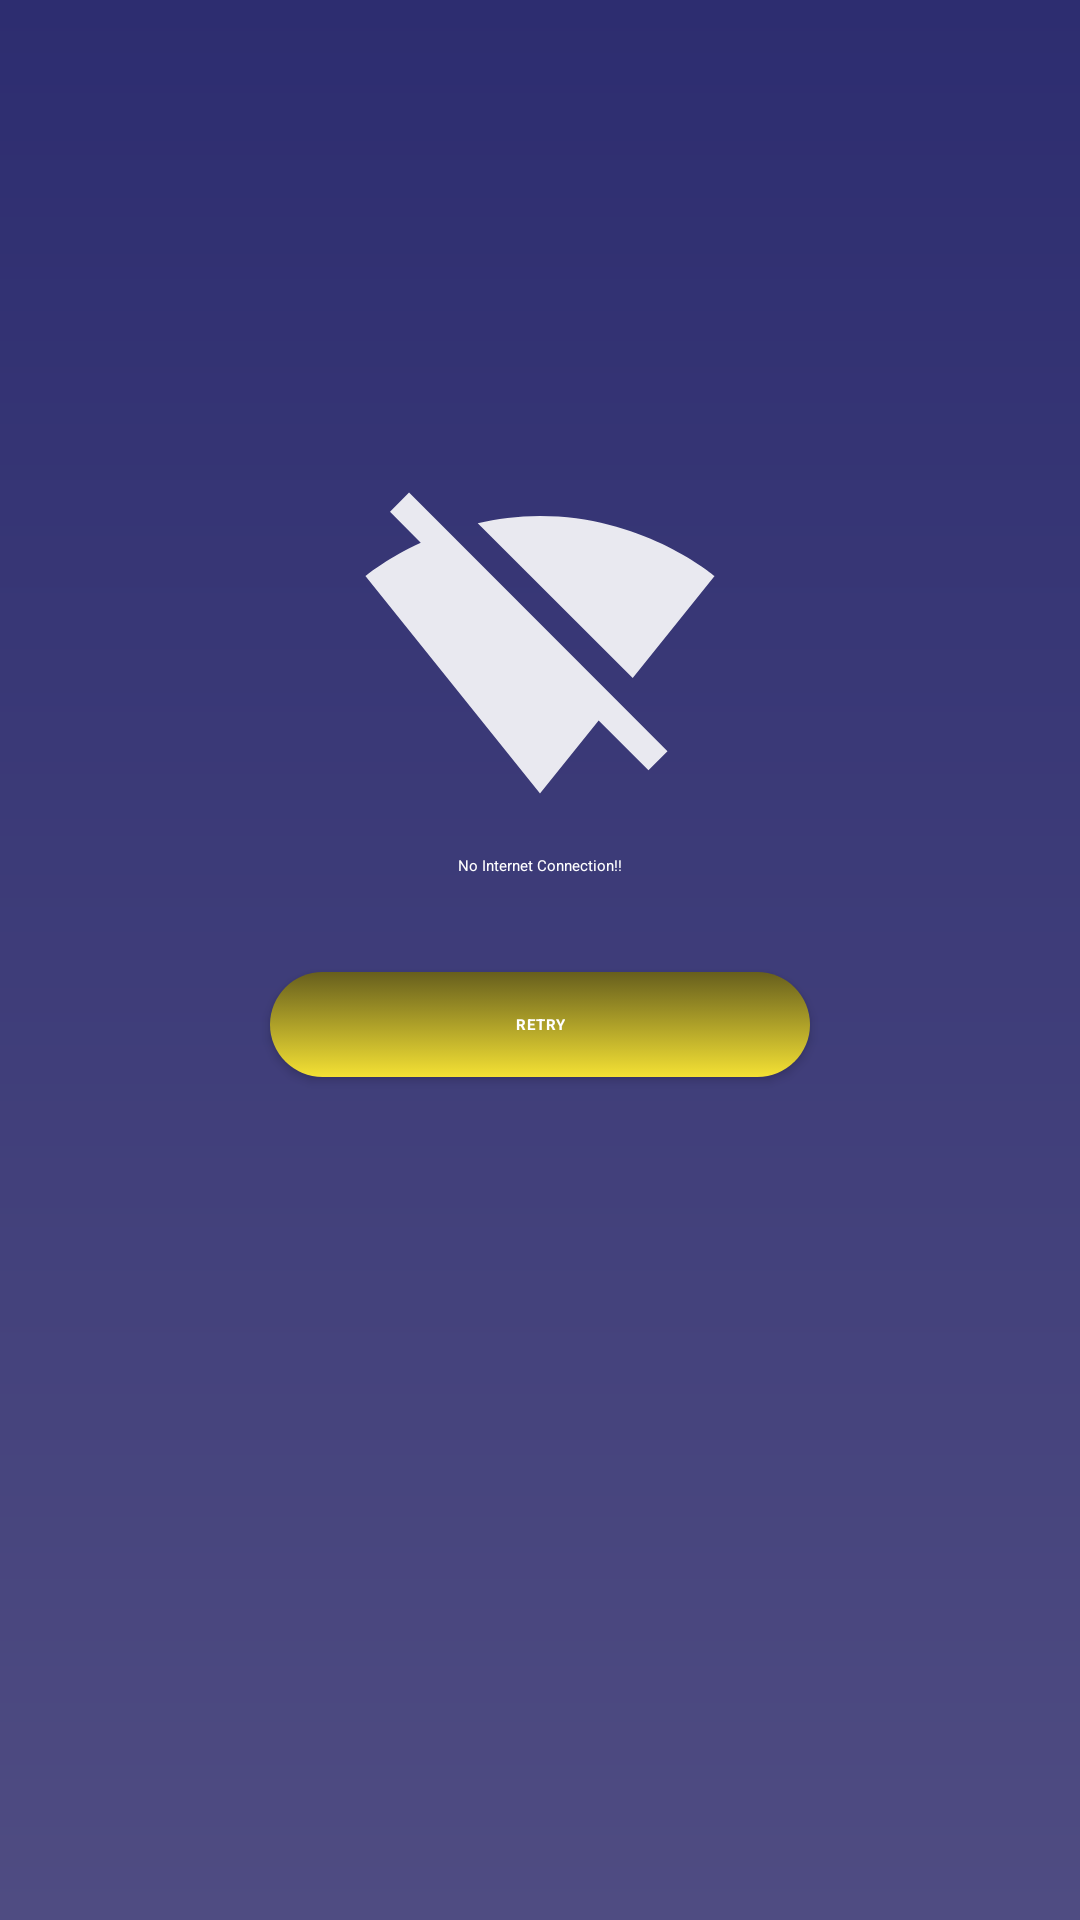

Icons on this 1080×1920 Android screen, each with the point to tap as [x,y]:
signal wifi off: [540,642]
